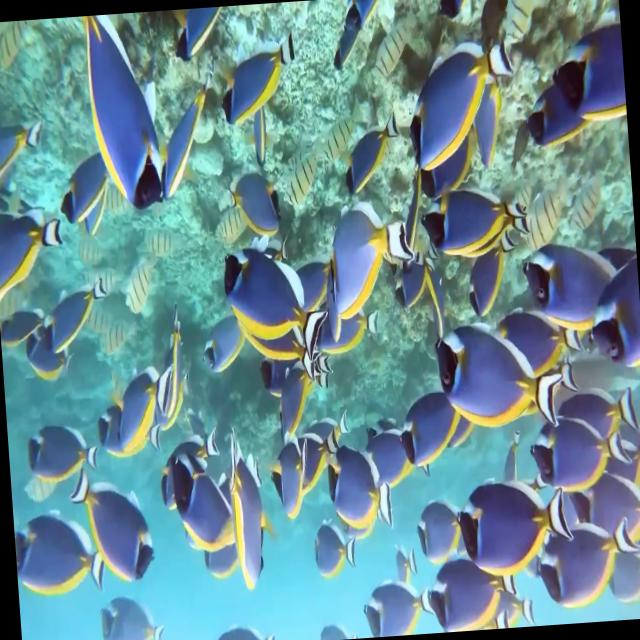fish: (74, 13, 169, 216), (426, 318, 568, 444), (402, 33, 522, 172), (218, 236, 328, 372), (320, 182, 422, 326), (451, 471, 580, 579), (526, 508, 640, 614), (70, 458, 162, 584), (416, 111, 513, 228), (522, 238, 620, 350), (546, 18, 628, 138), (13, 515, 116, 609), (214, 428, 272, 588), (215, 31, 306, 132), (422, 180, 528, 266), (423, 541, 519, 633), (170, 436, 242, 556), (151, 88, 217, 216), (530, 414, 628, 500), (0, 198, 82, 300), (581, 250, 640, 381), (41, 259, 114, 364), (232, 308, 326, 388), (18, 406, 104, 490), (329, 446, 398, 546), (0, 103, 66, 207), (337, 112, 415, 200), (47, 153, 122, 243), (108, 351, 166, 459), (210, 168, 290, 246), (460, 238, 525, 332), (293, 410, 362, 497), (187, 306, 253, 394), (396, 387, 462, 474), (168, 5, 235, 90), (370, 19, 430, 105), (408, 488, 469, 572), (567, 371, 640, 440), (356, 575, 434, 638), (516, 86, 578, 164), (270, 136, 328, 218), (316, 100, 374, 178), (90, 588, 176, 640), (360, 426, 415, 504), (262, 436, 307, 526), (0, 300, 61, 362), (17, 320, 72, 388), (109, 250, 158, 322), (308, 516, 360, 577), (500, 0, 553, 57), (200, 540, 248, 598), (150, 441, 181, 527), (600, 555, 640, 620), (89, 404, 119, 470), (482, 593, 534, 629), (388, 544, 426, 586), (209, 618, 273, 640), (314, 618, 353, 640)
